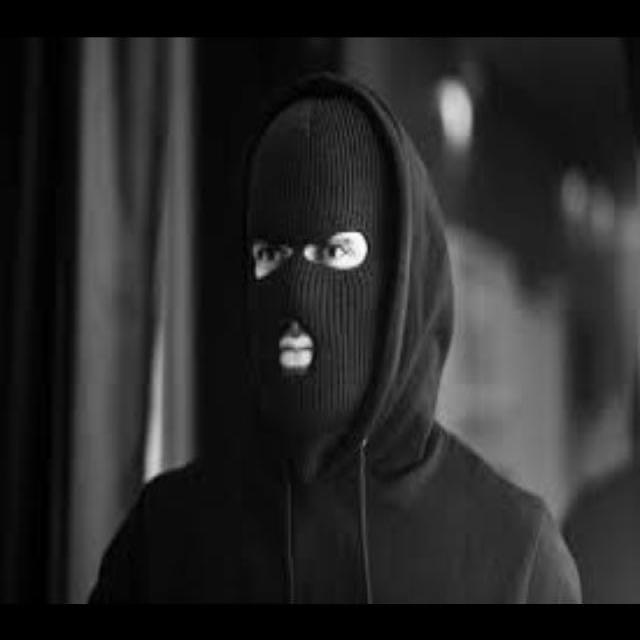6_pasamontana: (245, 89, 398, 450)
